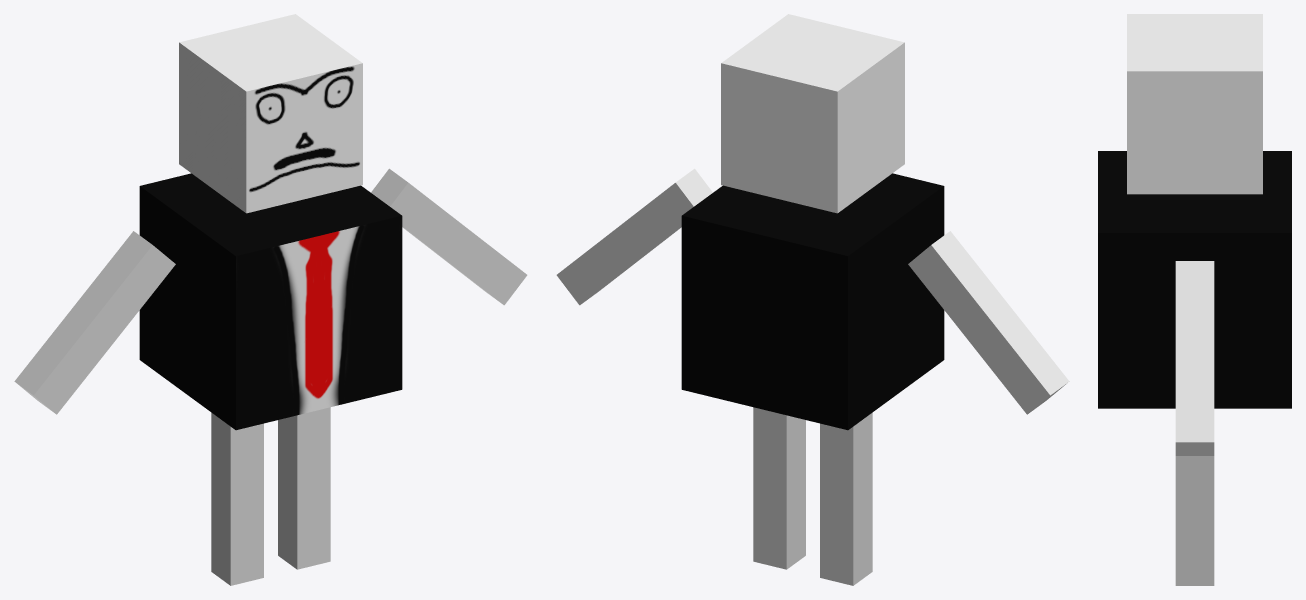
Rendered from boss.glb.
3 renders of one model, left to right at view 1: azimuth 30°, elevation 25°; view 2: azimuth 150°, elevation 25°; view 3: azimuth 270°, elevation 25°, orthographic.
Visible parts, largest first — view 1: Tummy, Head, Arm_R, Leg_R, Leg_L, Arm_L; view 2: Tummy, Head, Arm_R, Leg_R, Leg_L, Arm_L; view 3: Tummy, Head, Arm_L, Leg_L.
Part boxes in pixels (<box>): Tummy: <box>139,173,402,430</box>; Head: <box>179,14,362,213</box>; Arm_R: <box>14,231,175,414</box>; Leg_R: <box>211,412,263,585</box>; Leg_L: <box>278,407,330,569</box>; Arm_L: <box>371,168,527,305</box>; Tummy: <box>681,173,944,430</box>; Head: <box>721,14,904,213</box>; Arm_R: <box>908,231,1069,414</box>; Leg_R: <box>820,412,872,585</box>; Leg_L: <box>753,407,805,569</box>; Arm_L: <box>556,168,712,305</box>; Tummy: <box>1098,151,1291,408</box>; Head: <box>1127,14,1262,194</box>; Arm_L: <box>1175,261,1214,455</box>; Leg_L: <box>1175,456,1214,585</box>.
Bounding box in the file's own units: 5.94 × 5.9 × 2.
Materials: 2 (2 with a texture image).
